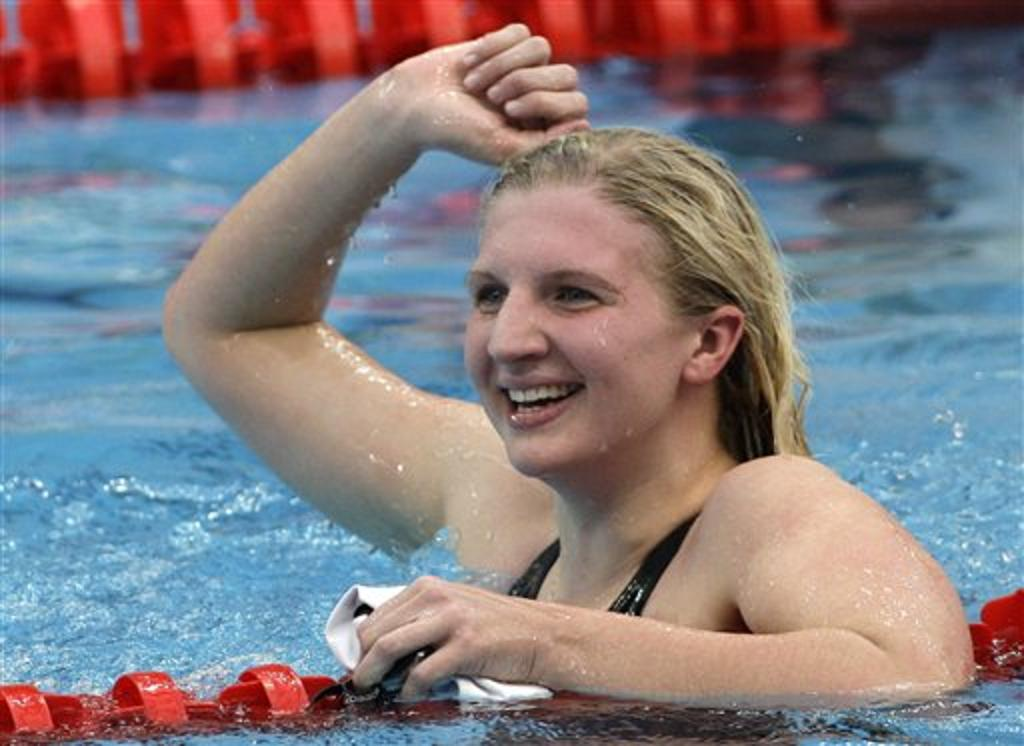face: (470, 214, 666, 480)
